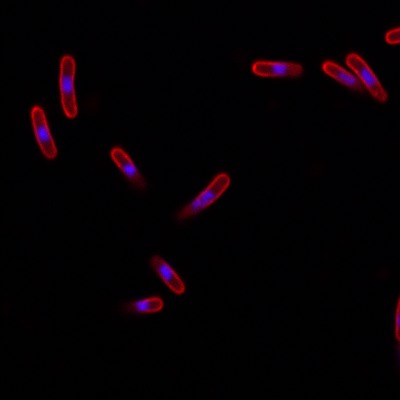Nalidixate: (345, 52, 388, 105), (31, 105, 58, 161), (59, 52, 80, 121)
Oblique: (175, 172, 234, 222), (143, 250, 187, 297), (110, 144, 148, 193), (320, 60, 364, 94), (115, 295, 167, 318), (251, 59, 305, 79)
